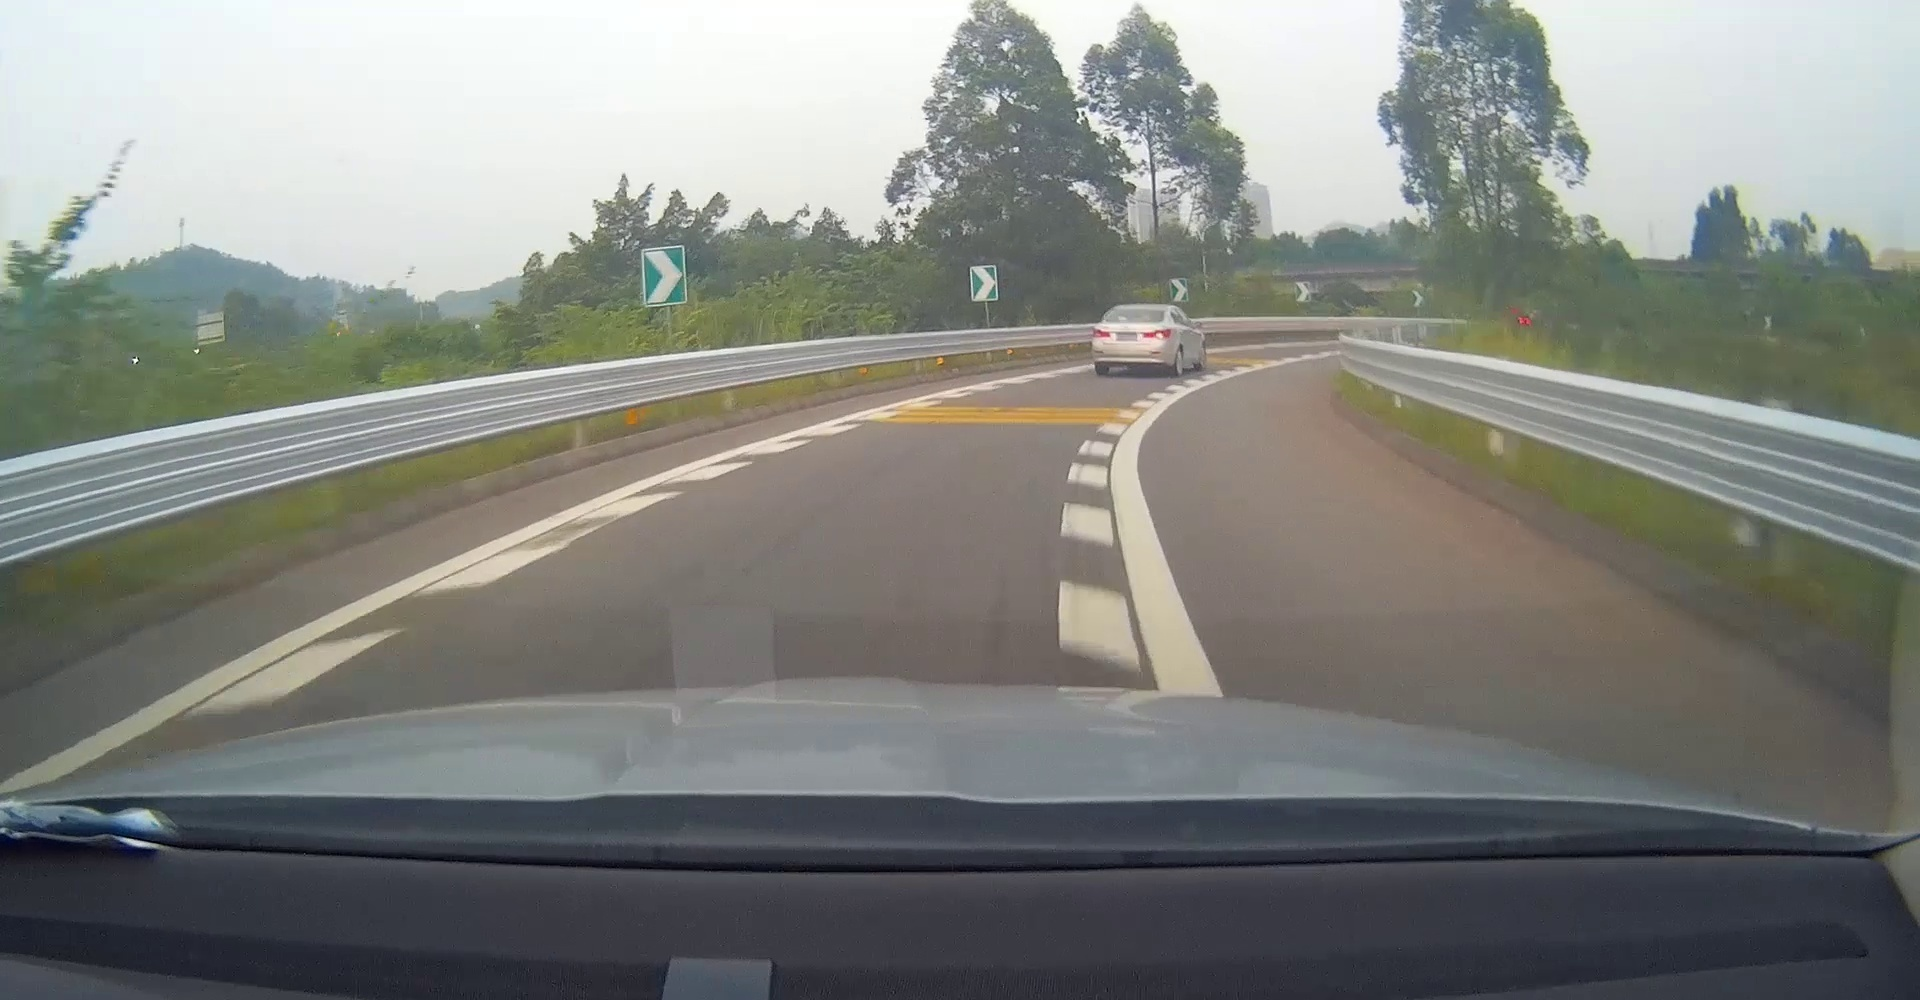L_light: (1092, 327, 1110, 338)
R_light: (1143, 327, 1170, 338)
T_light: (1133, 308, 1145, 311)
day-right: (1092, 305, 1172, 376)
